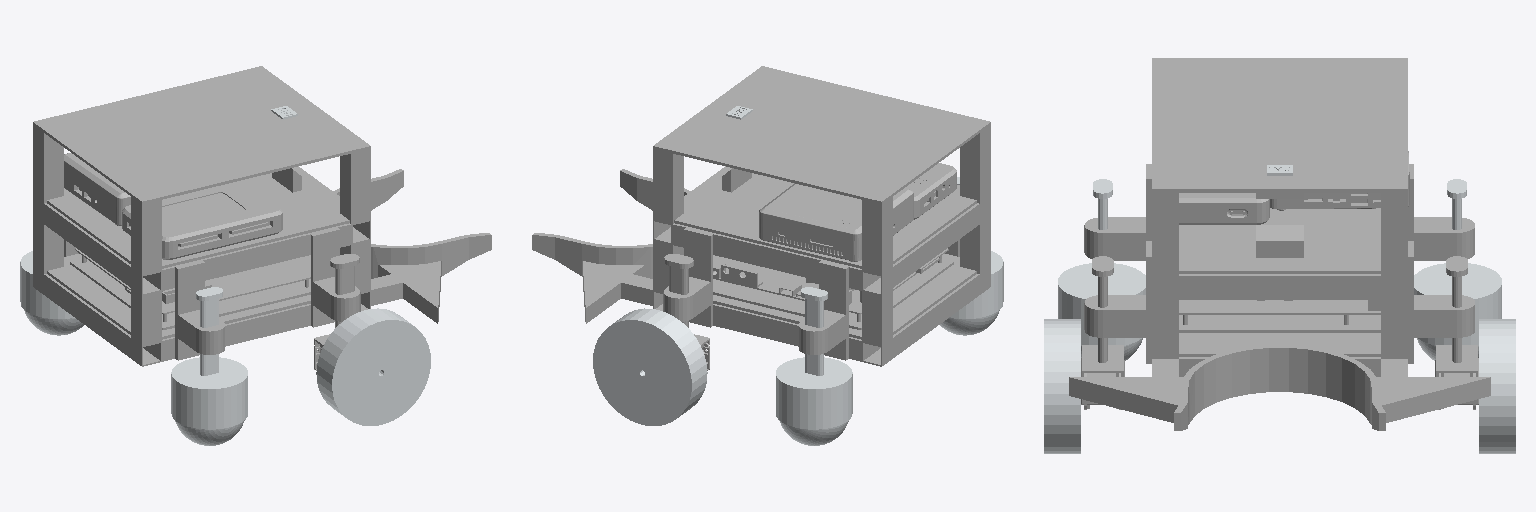
robot.urdf — lide:
<?xml version="1.0" encoding="utf-8"?>
<!-- This URDF was automatically created by SolidWorks to URDF Exporter! Originally created by [author] ([email redacted]) 
     Commit Version: 1.5.1-0-g916b5db  Build Version: 1.5.7152.31018
     For more information, please see http://wiki.ros.org/sw_urdf_exporter -->
<robot
  name="lide">
  <link
    name="base_link">
    <inertial>
      <origin
        xyz="-0.12391 0.084904 0.0506"
        rpy="0 0 0" />
      <mass
        value="2.9143" />
      <inertia
        ixx="0.0061741"
        ixy="-7.1545E-07"
        ixz="-1.2654E-05"
        iyy="0.0055345"
        iyz="-3.5133E-07"
        izz="0.01105" />
    </inertial>
    <visual>
      <origin
        xyz="0 0 0"
        rpy="0 0 0" />
      <geometry>
        <mesh
          filename="package://lide/meshes/base_link.STL" />
      </geometry>
      <material
        name="">
        <color
          rgba="0.75294 0.75294 0.75294 1" />
      </material>
    </visual>
    <collision>
      <origin
        xyz="0 0 0"
        rpy="0 0 0" />
      <geometry>
        <mesh
          filename="package://lide/meshes/base_link.STL" />
      </geometry>
    </collision>
  </link>
  <link
    name="LFS">
    <inertial>
      <origin
        xyz="0.045568 0.048067 0.0027897"
        rpy="0 0 0" />
      <mass
        value="0.090992" />
      <inertia
        ixx="6.1435E-05"
        ixy="-1.6485E-08"
        ixz="-1.5645E-07"
        iyy="1.7194E-05"
        iyz="2.9641E-09"
        izz="5.6908E-05" />
    </inertial>
    <visual>
      <origin
        xyz="0 0 0"
        rpy="0 0 0" />
      <geometry>
        <mesh
          filename="package://lide/meshes/LFS.STL" />
      </geometry>
      <material
        name="">
        <color
          rgba="0.75294 0.75294 0.75294 1" />
      </material>
    </visual>
    <collision>
      <origin
        xyz="0 0 0"
        rpy="0 0 0" />
      <geometry>
        <mesh
          filename="package://lide/meshes/LFS.STL" />
      </geometry>
    </collision>
  </link>
  <joint
    name="LFS"
    type="prismatic">
    <origin
      xyz="-0.054044 0.18241 -0.0611"
      rpy="1.5708 0 1.5708" />
    <parent
      link="base_link" />
    <child
      link="LFS" />
    <axis
      xyz="0 1 0" />
    <limit
      lower="0"
      upper="0"
      effort="0"
      velocity="0" />
  </joint>
  <link
    name="LFW">
    <inertial>
      <origin
        xyz="0.015 0 6.9389E-18"
        rpy="0 0 0" />
      <mass
        value="0.76708" />
      <inertia
        ixx="0.0011643"
        ixy="-1.2511E-22"
        ixz="-1.8331E-20"
        iyy="0.00063966"
        iyz="-6.7763E-21"
        izz="0.00063966" />
    </inertial>
    <visual>
      <origin
        xyz="0 0 0"
        rpy="0 0 0" />
      <geometry>
        <mesh
          filename="package://lide/meshes/LFW.STL" />
      </geometry>
      <material
        name="">
        <color
          rgba="0.89804 0.91765 0.92941 1" />
      </material>
    </visual>
    <collision>
      <origin
        xyz="0 0 0"
        rpy="0 0 0" />
      <geometry>
        <mesh
          filename="package://lide/meshes/LFW.STL" />
      </geometry>
    </collision>
  </link>
  <joint
    name="LFW"
    type="continuous">
    <origin
      xyz="0.063346 0.017799 0.015044"
      rpy="-1.6264 0 0" />
    <parent
      link="LFS" />
    <child
      link="LFW" />
    <axis
      xyz="1 0 0" />
    <limit
      effort="3.1"
      velocity="7" />
  </joint>
  <link
    name="RFS">
    <inertial>
      <origin
        xyz="-0.01919 0.048042 0.051819"
        rpy="0 0 0" />
      <mass
        value="0.090992" />
      <inertia
        ixx="6.1435E-05"
        ixy="-1.6485E-08"
        ixz="1.5645E-07"
        iyy="1.7194E-05"
        iyz="-2.9641E-09"
        izz="5.6908E-05" />
    </inertial>
    <visual>
      <origin
        xyz="0 0 0"
        rpy="0 0 0" />
      <geometry>
        <mesh
          filename="package://lide/meshes/RFS.STL" />
      </geometry>
      <material
        name="">
        <color
          rgba="0.75294 0.75294 0.75294 1" />
      </material>
    </visual>
    <collision>
      <origin
        xyz="0 0 0"
        rpy="0 0 0" />
      <geometry>
        <mesh
          filename="package://lide/meshes/RFS.STL" />
      </geometry>
    </collision>
  </link>
  <joint
    name="RFS"
    type="prismatic">
    <origin
      xyz="-0.10307 -0.042784 -0.0611"
      rpy="1.5708 0 1.5708" />
    <parent
      link="base_link" />
    <child
      link="RFS" />
    <axis
      xyz="0 1 0" />
    <limit
      lower="0"
      upper="0"
      effort="0"
      velocity="0" />
  </joint>
  <link
    name="RFW">
    <inertial>
      <origin
        xyz="-0.015 -3.4694E-18 0"
        rpy="0 0 0" />
      <mass
        value="0.76708" />
      <inertia
        ixx="0.0011643"
        ixy="-5.6985E-26"
        ixz="-4.6558E-26"
        iyy="0.00063966"
        iyz="-2.0329E-20"
        izz="0.00063966" />
    </inertial>
    <visual>
      <origin
        xyz="0 0 0"
        rpy="0 0 0" />
      <geometry>
        <mesh
          filename="package://lide/meshes/RFW.STL" />
      </geometry>
      <material
        name="">
        <color
          rgba="0.89804 0.91765 0.92941 1" />
      </material>
    </visual>
    <collision>
      <origin
        xyz="0 0 0"
        rpy="0 0 0" />
      <geometry>
        <mesh
          filename="package://lide/meshes/RFW.STL" />
      </geometry>
    </collision>
  </link>
  <joint
    name="RFW"
    type="continuous">
    <origin
      xyz="-0.036969 0.017801 0.064073"
      rpy="-0.1592 0 0" />
    <parent
      link="RFS" />
    <child
      link="RFW" />
    <axis
      xyz="1 0 0" />
    <limit
      effort="3.1"
      velocity="7" />
  </joint>
  <link
    name="LBS">
    <inertial>
      <origin
        xyz="0 -0.019925 0"
        rpy="0 0 0" />
      <mass
        value="0.11253" />
      <inertia
        ixx="0.00017713"
        ixy="6.3363E-21"
        ixz="7.7534E-20"
        iyy="8.273E-05"
        iyz="3.2401E-20"
        izz="0.00017693" />
    </inertial>
    <visual>
      <origin
        xyz="0 0 0"
        rpy="0 0 0" />
      <geometry>
        <mesh
          filename="package://lide/meshes/LBS.STL" />
      </geometry>
      <material
        name="">
        <color
          rgba="0.89804 0.91765 0.92941 1" />
      </material>
    </visual>
    <collision>
      <origin
        xyz="0 0 0"
        rpy="0 0 0" />
      <geometry>
        <mesh
          filename="package://lide/meshes/LBS.STL" />
      </geometry>
    </collision>
  </link>
  <joint
    name="LBS"
    type="prismatic">
    <origin
      xyz="-0.202 0.228 0"
      rpy="1.5708 0 1.5708" />
    <parent
      link="base_link" />
    <child
      link="LBS" />
    <axis
      xyz="0 1 0" />
    <limit
      lower="0"
      upper="0"
      effort="0"
      velocity="0" />
  </joint>
  <link
    name="LBW">
    <inertial>
      <origin
        xyz="6.9389E-18 0 -2.7756E-17"
        rpy="0 0 0" />
      <mass
        value="0.47957" />
      <inertia
        ixx="0.00023542"
        ixy="-7.2576E-39"
        ixz="3.4442E-40"
        iyy="0.00023758"
        iyz="-7.8066E-40"
        izz="0.00023542" />
    </inertial>
    <visual>
      <origin
        xyz="0 0 0"
        rpy="0 0 0" />
      <geometry>
        <mesh
          filename="package://lide/meshes/LBW.STL" />
      </geometry>
      <material
        name="">
        <color
          rgba="0.89804 0.91765 0.92941 1" />
      </material>
    </visual>
    <collision>
      <origin
        xyz="0 0 0"
        rpy="0 0 0" />
      <geometry>
        <mesh
          filename="package://lide/meshes/LBW.STL" />
      </geometry>
    </collision>
  </link>
  <joint
    name="LBW"
    type="continuous">
    <origin
      xyz="0 -0.0633 0"
      rpy="0 0 -1.5708" />
    <parent
      link="LBS" />
    <child
      link="LBW" />
    <axis
      xyz="0 1 0" />
    <limit
      lower="0"
      upper="0"
      effort="0"
      velocity="0" />
    <dynamics
      damping="0.001" />
  </joint>
  <link
    name="RBS">
    <inertial>
      <origin
        xyz="0 -0.019925 -5.5511E-17"
        rpy="0 0 0" />
      <mass
        value="0.11253" />
      <inertia
        ixx="0.00017713"
        ixy="1.256E-20"
        ixz="9.1324E-20"
        iyy="8.273E-05"
        iyz="3.2401E-20"
        izz="0.00017693" />
    </inertial>
    <visual>
      <origin
        xyz="0 0 0"
        rpy="0 0 0" />
      <geometry>
        <mesh
          filename="package://lide/meshes/RBS.STL" />
      </geometry>
      <material
        name="">
        <color
          rgba="0.89804 0.91765 0.92941 1" />
      </material>
    </visual>
    <collision>
      <origin
        xyz="0 0 0"
        rpy="0 0 0" />
      <geometry>
        <mesh
          filename="package://lide/meshes/RBS.STL" />
      </geometry>
    </collision>
  </link>
  <joint
    name="RBS"
    type="prismatic">
    <origin
      xyz="-0.202 -0.062003 0"
      rpy="1.5708 0 1.5708" />
    <parent
      link="base_link" />
    <child
      link="RBS" />
    <axis
      xyz="0 1 0" />
    <limit
      lower="0"
      upper="0"
      effort="0"
      velocity="0" />
  </joint>
  <link
    name="RBW">
    <inertial>
      <origin
        xyz="0 -2.7756E-17 0"
        rpy="0 0 0" />
      <mass
        value="0.47957" />
      <inertia
        ixx="0.00023542"
        ixy="7.2576E-39"
        ixz="3.4442E-40"
        iyy="0.00023758"
        iyz="-7.6906E-40"
        izz="0.00023542" />
    </inertial>
    <visual>
      <origin
        xyz="0 0 0"
        rpy="0 0 0" />
      <geometry>
        <mesh
          filename="package://lide/meshes/RBW.STL" />
      </geometry>
      <material
        name="">
        <color
          rgba="0.89804 0.91765 0.92941 1" />
      </material>
    </visual>
    <collision>
      <origin
        xyz="0 0 0"
        rpy="0 0 0" />
      <geometry>
        <mesh
          filename="package://lide/meshes/RBW.STL" />
      </geometry>
    </collision>
  </link>
  <joint
    name="RBW"
    type="continuous">
    <origin
      xyz="0 -0.0633 0"
      rpy="0 0 -1.5708" />
    <parent
      link="RBS" />
    <child
      link="RBW" />
    <axis
      xyz="0 1 0" />
    <limit
      lower="0"
      upper="0"
      effort="0"
      velocity="0" />
    <dynamics
      damping="0.001" />
  </joint>
  <link
    name="fcam">
    <inertial>
      <origin
        xyz="-0.011554 -2.6443E-06 0.0012903"
        rpy="0 0 0" />
      <mass
        value="0.043612" />
      <inertia
        ixx="2.3571E-05"
        ixy="-1.0184E-09"
        ixz="2.1759E-08"
        iyy="4.2948E-06"
        iyz="-8.8502E-10"
        izz="2.2106E-05" />
    </inertial>
    <visual>
      <origin
        xyz="0 0 0"
        rpy="0 0 0" />
      <geometry>
        <mesh
          filename="package://lide/meshes/fcam.STL" />
      </geometry>
      <material
        name="">
        <color
          rgba="0.79216 0.81961 0.93333 1" />
      </material>
    </visual>
    <collision>
      <origin
        xyz="0 0 0"
        rpy="0 0 0" />
      <geometry>
        <mesh
          filename="package://lide/meshes/fcam.STL" />
      </geometry>
    </collision>
  </link>
  <joint
    name="fcam"
    type="fixed">
    <origin
      xyz="-0.0038823 0.083 0.12982"
      rpy="0 0.2618 0" />
    <parent
      link="base_link" />
    <child
      link="fcam" />
    <axis
      xyz="0 0 0" />
  </joint>
  <link
    name="bcam">
    <inertial>
      <origin
        xyz="-0.020103 -2.6435E-06 -0.0072587"
        rpy="0 0 0" />
      <mass
        value="0.043612" />
      <inertia
        ixx="2.3571E-05"
        ixy="-1.0183E-09"
        ixz="2.1758E-08"
        iyy="4.2948E-06"
        iyz="-8.8548E-10"
        izz="2.2106E-05" />
    </inertial>
    <visual>
      <origin
        xyz="0 0 0"
        rpy="0 0 0" />
      <geometry>
        <mesh
          filename="package://lide/meshes/bcam.STL" />
      </geometry>
      <material
        name="">
        <color
          rgba="0.79216 0.81961 0.93333 1" />
      </material>
    </visual>
    <collision>
      <origin
        xyz="0 0 0"
        rpy="0 0 0" />
      <geometry>
        <mesh
          filename="package://lide/meshes/bcam.STL" />
      </geometry>
    </collision>
  </link>
  <joint
    name="bcam"
    type="fixed">
    <origin
      xyz="0 0.083 0.091232"
      rpy="0 0.7854 0" />
    <parent
      link="base_link" />
    <child
      link="bcam" />
    <axis
      xyz="0 0 0" />
  </joint>
  <link
    name="Lidar">
    <inertial>
      <origin
        xyz="0.013523 0.00046196 -0.028765"
        rpy="0 0 0" />
      <mass
        value="0.073085" />
      <inertia
        ixx="1.9581E-05"
        ixy="-1.0393E-07"
        ixz="-4.2839E-07"
        iyy="2.4125E-05"
        iyz="9.4271E-09"
        izz="4.1418E-05" />
    </inertial>
    <visual>
      <origin
        xyz="0 0 0"
        rpy="0 0 0" />
      <geometry>
        <mesh
          filename="package://lide/meshes/Lidar.STL" />
      </geometry>
      <material
        name="">
        <color
          rgba="0.79216 0.81961 0.93333 1" />
      </material>
    </visual>
    <collision>
      <origin
        xyz="0 0 0"
        rpy="0 0 0" />
      <geometry>
        <mesh
          filename="package://lide/meshes/Lidar.STL" />
      </geometry>
    </collision>
  </link>
  <joint
    name="Lidar"
    type="fixed">
    <origin
      xyz="-0.19458 0.082006 0.2065"
      rpy="0 0 0" />
    <parent
      link="base_link" />
    <child
      link="Lidar" />
    <axis
      xyz="0 0 0" />
  </joint>
  <link
    name="imu_link">
    <inertial>
      <origin
        xyz="0.0038502 6.2398E-05 -0.0010338"
        rpy="0 0 0" />
      <mass
        value="0.0018918" />
      <inertia
        ixx="7.7943E-08"
        ixy="1.3921E-10"
        ixz="1.5451E-11"
        iyy="4.8547E-08"
        iyz="-6.301E-11"
        izz="1.2523E-07" />
    </inertial>
    <visual>
      <origin
        xyz="0 0 0"
        rpy="0 0 0" />
      <geometry>
        <mesh
          filename="package://lide/meshes/imu_link.STL" />
      </geometry>
      <material
        name="">
        <color
          rgba="0.89804 0.91765 0.92941 1" />
      </material>
    </visual>
    <collision>
      <origin
        xyz="0 0 0"
        rpy="0 0 0" />
      <geometry>
        <mesh
          filename="package://lide/meshes/imu_link.STL" />
      </geometry>
    </collision>
  </link>
  <joint
    name="imu_link"
    type="fixed">
    <origin
      xyz="-0.039 0.083 0.155"
      rpy="0 0 0" />
    <parent
      link="base_link" />
    <child
      link="imu_link" />
    <axis
      xyz="0 0 0" />
  </joint>
</robot>

--- Facts derived from the render (not from the file) ---
Views: 3 orthographic renders of the robot side by side, from view 1: azimuth 30°, elevation 25°; view 2: azimuth 150°, elevation 25°; view 3: azimuth 270°, elevation 25°.
Model lide with 13 links and 12 joints (4 continuous, 4 prismatic, 4 fixed), rooted at base_link, posed all joints at 0.
Visible links, largest first — view 1: base_link, RFW, RBS, LBS, RFS, RBW, LBW; view 2: base_link, LFW, LBS, RBS, LFS, LBW, RBW; view 3: base_link, LFW, RFW, LBS, RBS, RFS, LFS.
Boxes of the visible links, x1=… form: base_link: x1=33, y1=66, x2=491, y2=366; RFW: x1=316, y1=308, x2=430, y2=425; RBS: x1=171, y1=287, x2=247, y2=429; LBS: x1=20, y1=251, x2=74, y2=318; RFS: x1=314, y1=254, x2=359, y2=370; RBW: x1=175, y1=420, x2=244, y2=445; LBW: x1=24, y1=310, x2=83, y2=335; base_link: x1=532, y1=66, x2=990, y2=366; LFW: x1=593, y1=308, x2=707, y2=425; LBS: x1=776, y1=287, x2=852, y2=429; RBS: x1=949, y1=177, x2=1003, y2=318; LFS: x1=664, y1=254, x2=709, y2=370; LBW: x1=779, y1=420, x2=848, y2=445; RBW: x1=940, y1=310, x2=999, y2=335; base_link: x1=1069, y1=58, x2=1490, y2=430; LFW: x1=1479, y1=319, x2=1515, y2=453; RFW: x1=1044, y1=319, x2=1080, y2=453; LBS: x1=1414, y1=179, x2=1501, y2=345; RBS: x1=1058, y1=179, x2=1145, y2=345; RFS: x1=1081, y1=256, x2=1124, y2=409; LFS: x1=1435, y1=256, x2=1478, y2=409.
Size in the robot's own frame: 0.398 by 0.3855 by 0.2532 metres.
Meshes: 13 distinct files referenced, 10 mesh visuals loaded (10 binary STL); not drawn: 3 (reference not matched to a file when rendering).